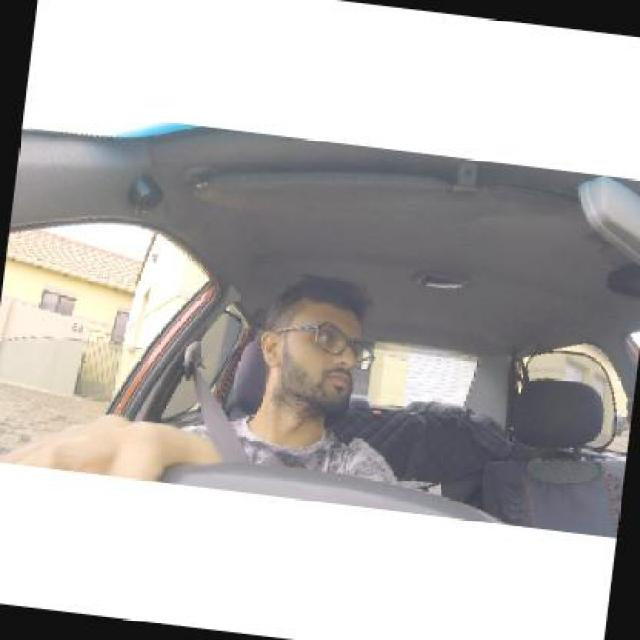person: (260, 278, 370, 416)
